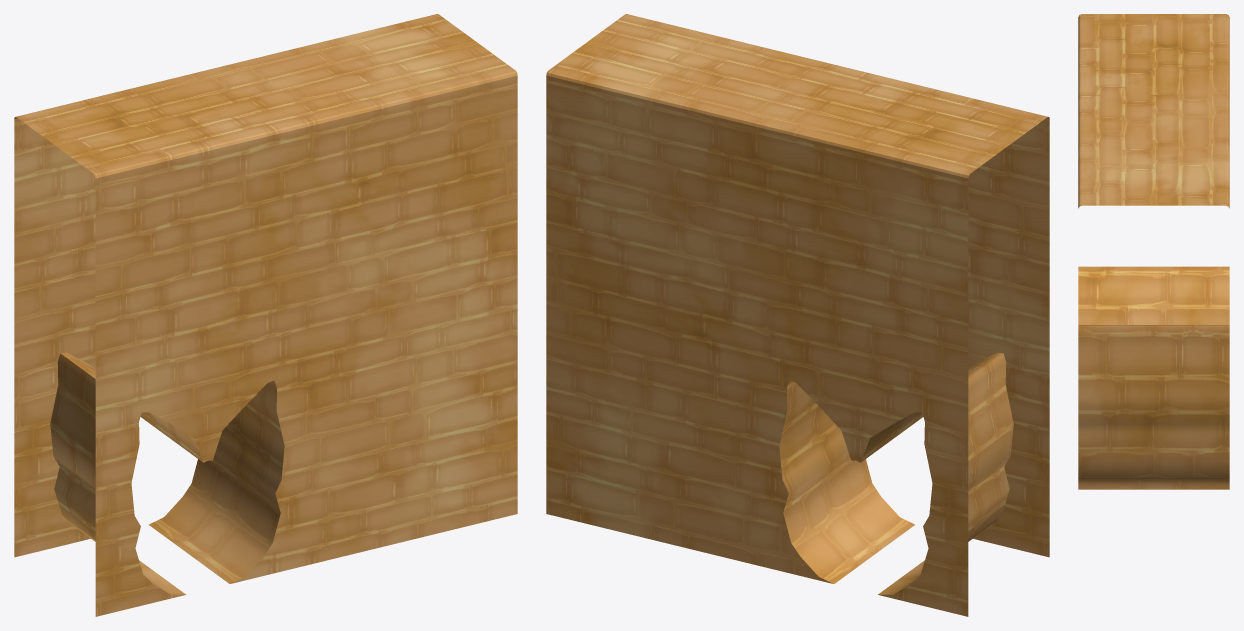
File: SM_Env_Wall_CatHole_Left.fbx
3 views of the same model, side by side, from view 1: azimuth 30°, elevation 25°; view 2: azimuth 150°, elevation 25°; view 3: azimuth 270°, elevation 25° (orthographic). The views are drawn at different scales.
Parts seen in each view (by area): view 1: Wall_CatHole_Left; view 2: Wall_CatHole_Left; view 3: Wall_CatHole_Left.
Boxes of the visible parts, left/top/right/bottom form: Wall_CatHole_Left: left=14, top=14, right=517, bottom=616; Wall_CatHole_Left: left=546, top=14, right=1049, bottom=616; Wall_CatHole_Left: left=1078, top=14, right=1229, bottom=489.
Size of the model in its own units: 300 by 300 by 100.
1 material, 1 textured.
